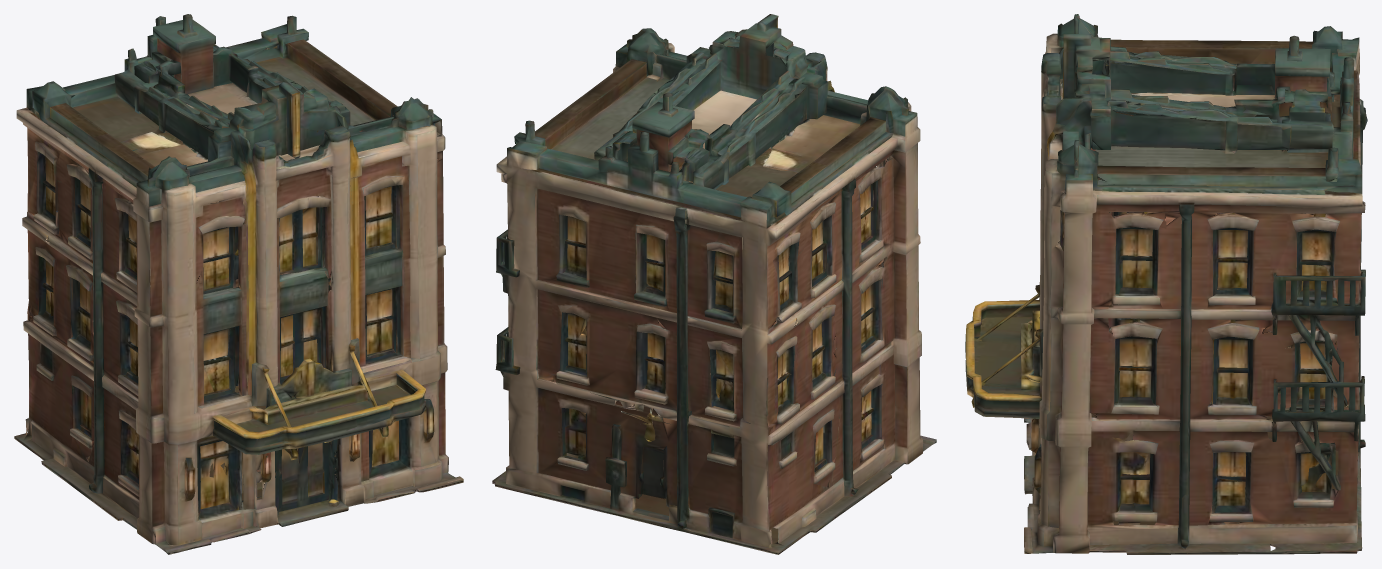
Rendered from candidate.glb.
The picture shows the model from 3 angles, left to right: view 1: azimuth 30°, elevation 25°; view 2: azimuth 150°, elevation 25°; view 3: azimuth 270°, elevation 25°; orthographic projection. The views are drawn at different scales.
Parts seen in each view (by area): view 1: expansion__hotel_3__native_mobile; view 2: expansion__hotel_3__native_mobile; view 3: expansion__hotel_3__native_mobile.
Boxes of the visible parts, x1,y1,x2,y2 form: expansion__hotel_3__native_mobile: [14, 14, 463, 554]; expansion__hotel_3__native_mobile: [492, 14, 936, 554]; expansion__hotel_3__native_mobile: [965, 14, 1367, 554].
Size of the model in its own units: 0.7513 by 1 by 0.8181.
Materials: 1 (1 with a texture image).
